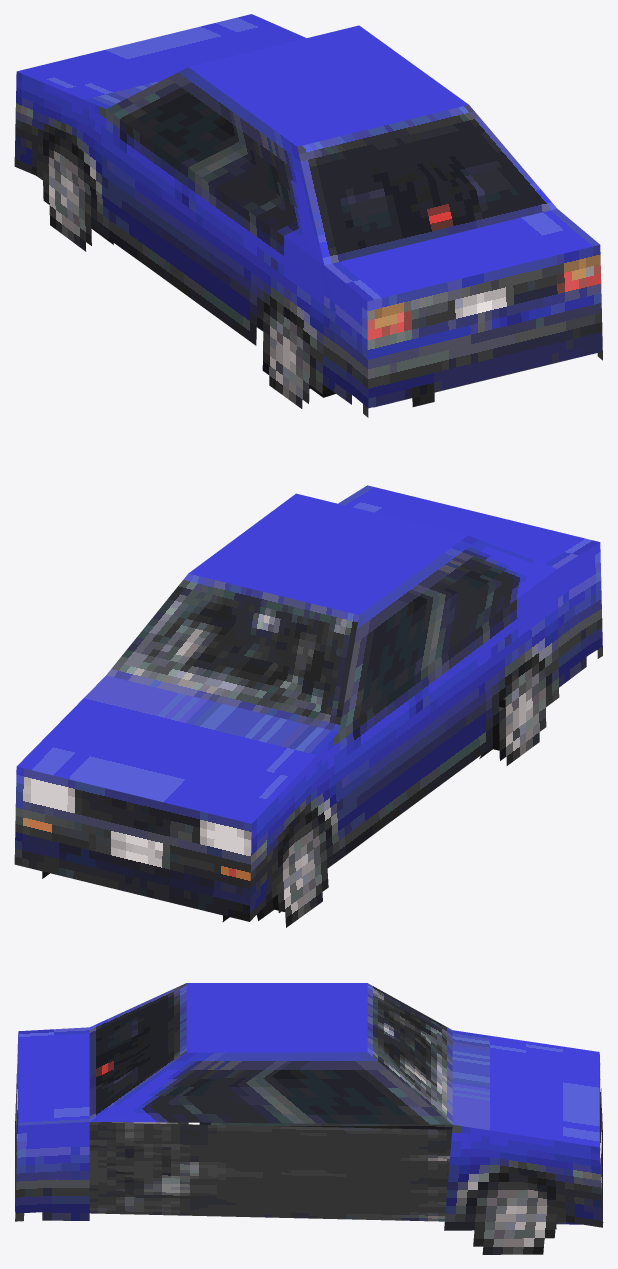
Rendered from car-jetta-plt3.glb.
The picture shows the model from 3 angles, top to bottom: view 1: azimuth 30°, elevation 25°; view 2: azimuth 150°, elevation 25°; view 3: azimuth 270°, elevation 25°; orthographic projection. The views are drawn at different scales.
Visible parts, largest first — view 1: car-jetta-plt3; view 2: car-jetta-plt3; view 3: car-jetta-plt3.
Part boxes in pixels (bbox=[...]): car-jetta-plt3: bbox=[14, 14, 602, 417]; car-jetta-plt3: bbox=[14, 485, 602, 927]; car-jetta-plt3: bbox=[15, 983, 603, 1254].
Size of the model in its own units: 1.67 by 1.53 by 4.33.
15 materials, 15 textured.
